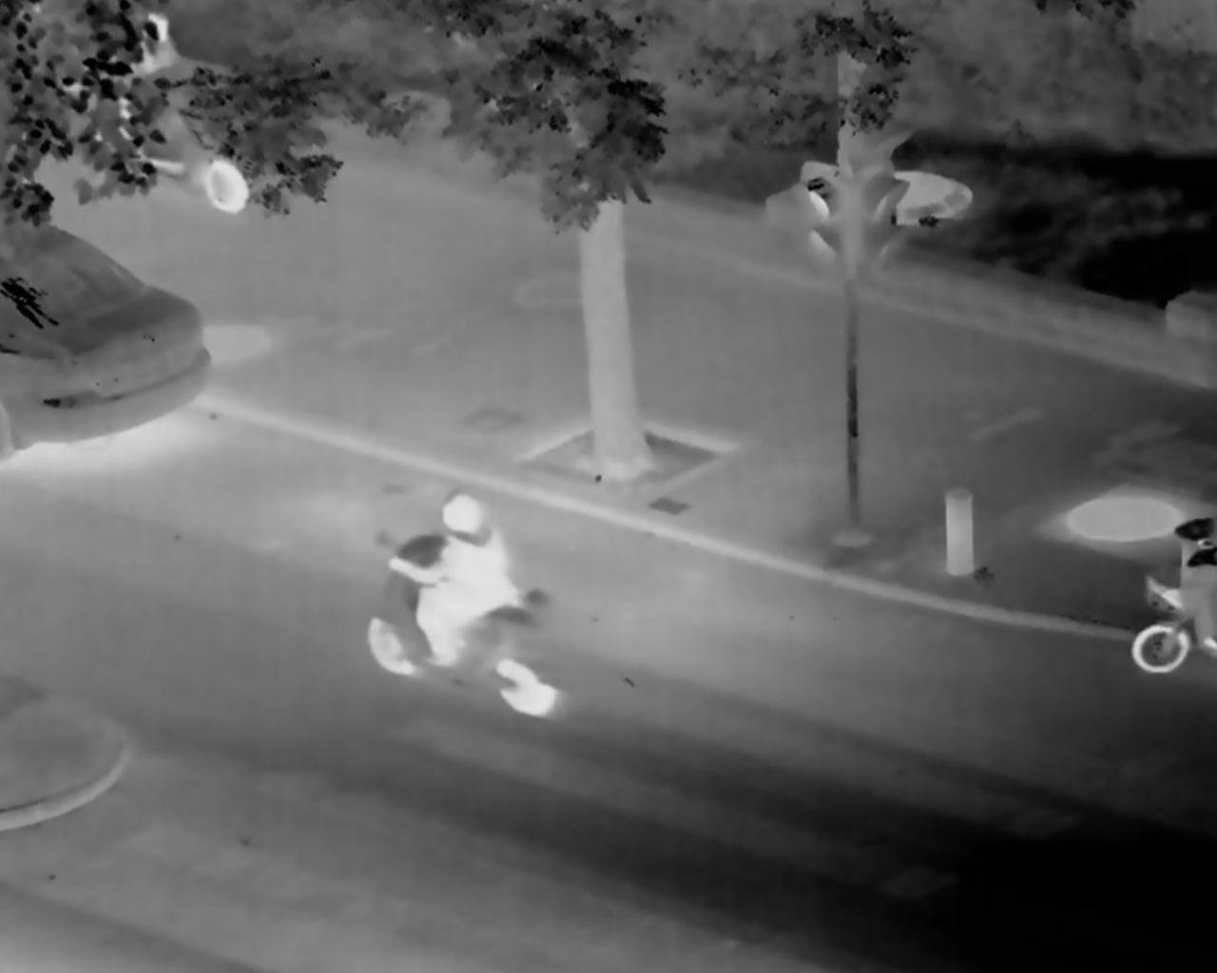person: (411, 477, 525, 708)
